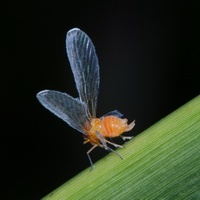insect: (36, 28, 134, 167)
